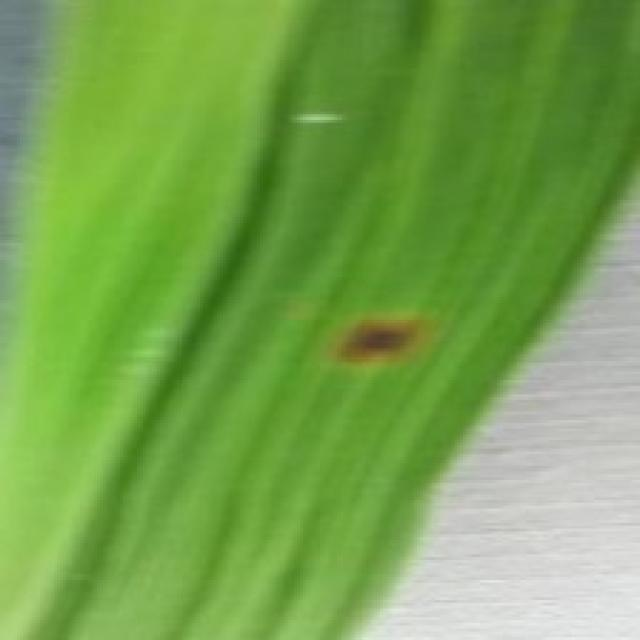Rice___Brown_Spot: (7, 0, 637, 637)
